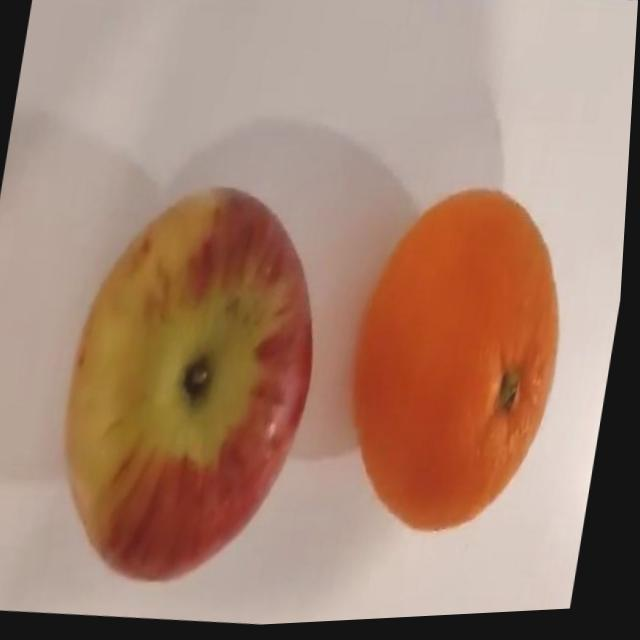Apple: (44, 170, 346, 602)
Orange: (333, 177, 588, 551)
